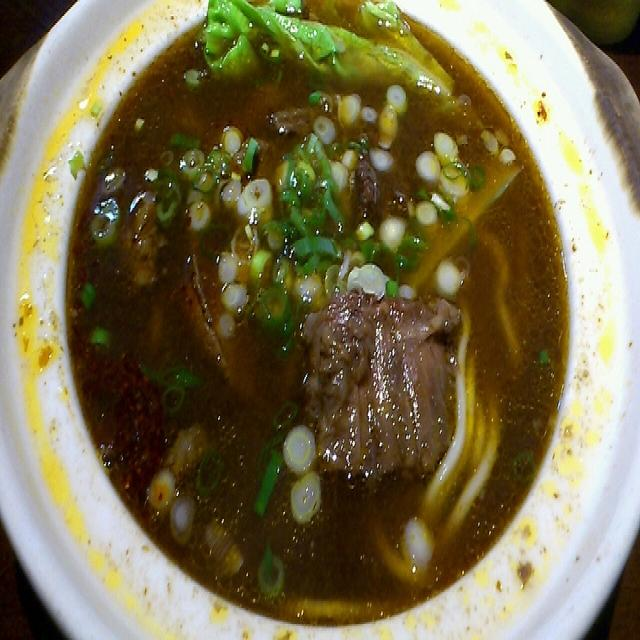面条主食: (30, 12, 596, 626)
